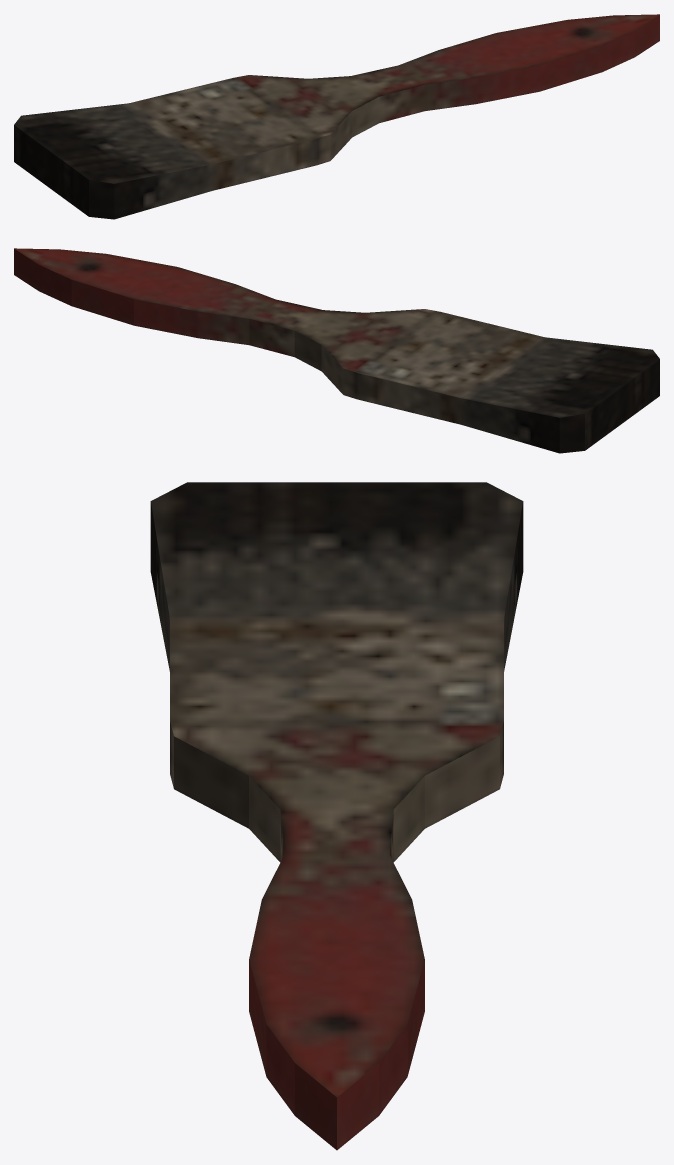
File: paint_brush_mr_1.obj
3 renders of one model, top to bottom at view 1: azimuth 30°, elevation 25°; view 2: azimuth 150°, elevation 25°; view 3: azimuth 270°, elevation 25°, orthographic. The views are drawn at different scales.
Visible parts, largest first — view 1: paint_brush_mr_1; view 2: paint_brush_mr_1; view 3: paint_brush_mr_1.
Part boxes in pixels (<box>): paint_brush_mr_1: <box>14,14,659,219</box>; paint_brush_mr_1: <box>14,248,659,453</box>; paint_brush_mr_1: <box>150,482,523,1150</box>.
Bounding box in the file's own units: 0.36 × 0.021 × 0.0954.
